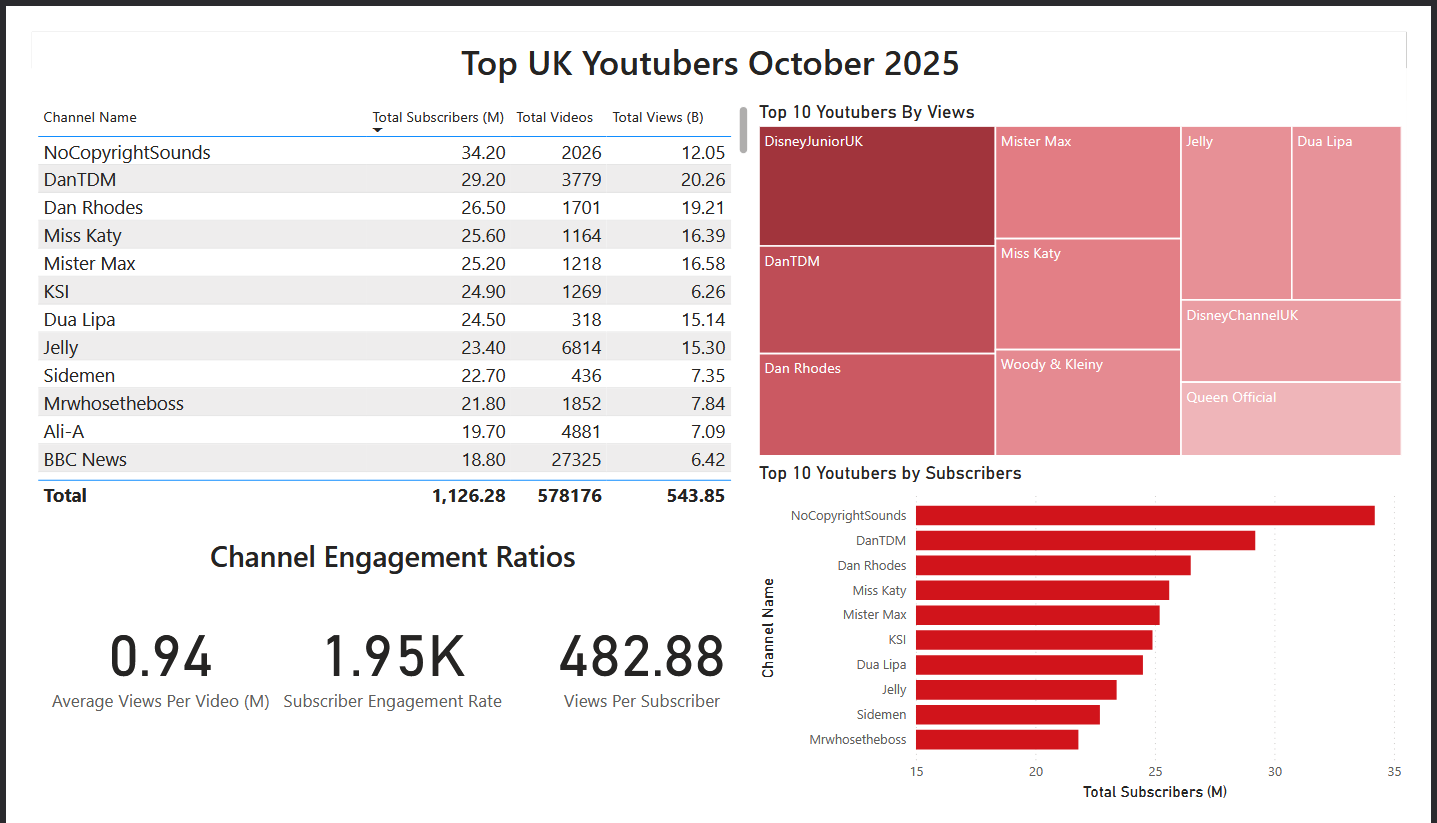

Layout of this report page (visuals, bound fields, positions):
{"tool":"powerbi","page":{"name":"Page 1","canvas":[1280,720],"ordinal":0},"visuals":[{"type":"textbox","box":[384,0,496,64],"z":0},{"type":"tableEx","fields":{"Values":["view_uk_youtubers.Channel_name","view_uk_youtubers.Total subscribers (M)","view_uk_youtubers.Total Videos","view_uk_youtubers.Total Views (B)"]},"box":[0,64,672,384],"z":1000},{"type":"treemap","title":"Top 10 Youtubers By Views","fields":{"Group":["view_uk_youtubers.Channel_name"],"Values":["view_uk_youtubers.Total Views (B)"]},"box":[672,64,608,336],"z":2000},{"type":"card","fields":{"Values":["view_uk_youtubers.Average Views Per Video (M)"]},"box":[0,448,240,272],"z":3000},{"type":"card","fields":{"Values":["view_uk_youtubers.Subscriber Engagement Rate"]},"box":[224,448,224,272],"z":4000},{"type":"card","fields":{"Values":["view_uk_youtubers.Views Per Subscriber"]},"box":[464,448,208,272],"z":5000},{"type":"barChart","title":"Top 10 Youtubers by Subscribers","fields":{"Category":["view_uk_youtubers.Channel_name"],"Y":["view_uk_youtubers.Total subscribers (M)"]},"box":[672,400,608,320],"z":6000},{"type":"textbox","box":[144,464,384,48],"z":7000}]}

Visuals, with their boxes in screenshot pixels (x1, y1, x2, y2), scaled from the page's 1280x720 canvas onto the 1437x823 screenshot:
textbox: rect(431, 0, 988, 73)
tableEx - view_uk_youtubers.Channel_name x view_uk_youtubers.Total subscribers (M): rect(0, 73, 754, 512)
"Top 10 Youtubers By Views" treemap: rect(754, 73, 1436, 457)
card - view_uk_youtubers.Average Views Per Video (M): rect(0, 512, 269, 822)
card - view_uk_youtubers.Subscriber Engagement Rate: rect(251, 512, 503, 822)
card - view_uk_youtubers.Views Per Subscriber: rect(521, 512, 754, 822)
"Top 10 Youtubers by Subscribers" barChart: rect(754, 457, 1436, 822)
textbox: rect(162, 530, 593, 585)
